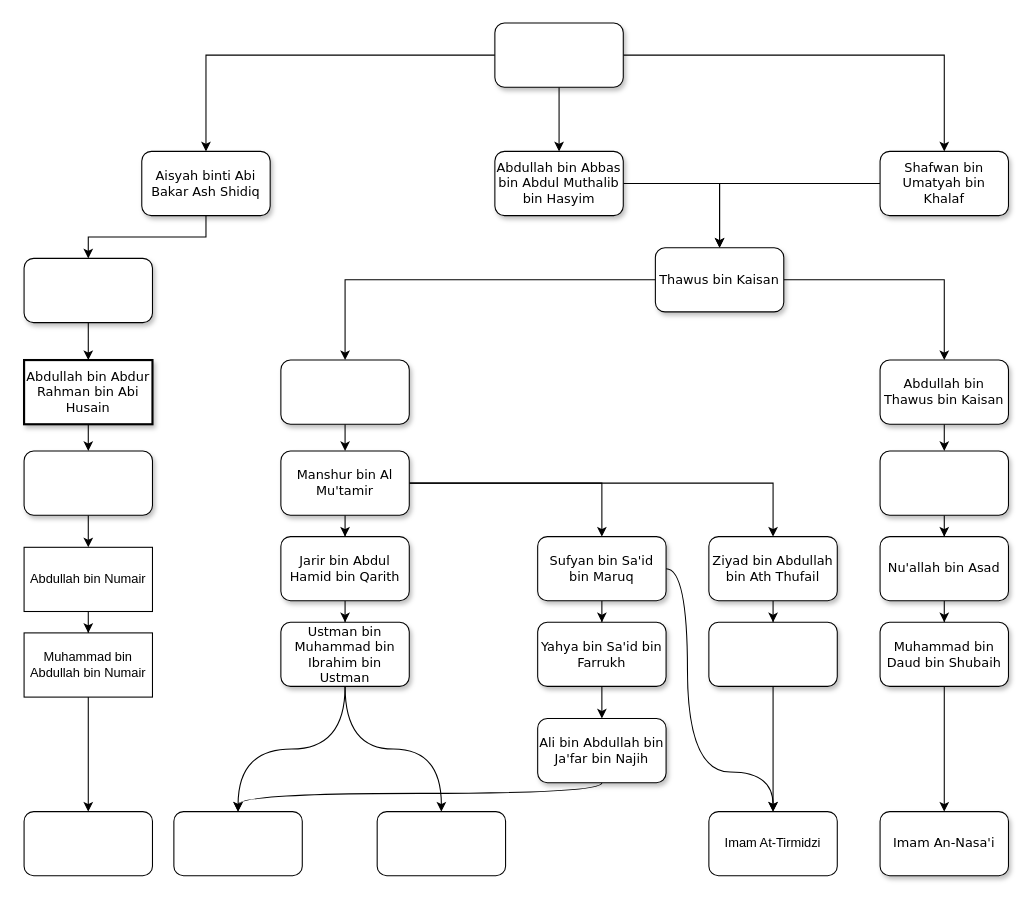
The diagram is 1034 pixels wide and 902 high, and some of its shapes have lost their labels. The centre of each missing label's shape, as x and y in pixels:
Abdullah bin Habib bin Abi Tsabit: the point at 89,484
Ahmad bin Abdah bin Musa: the point at 774,655
Atha bin Abi Rabbah Aslam: the point at 89,291
Imam Abu Daud: the point at 441,843
Imam Bukhari: the point at 237,843
Imam Muslim: the point at 87,843
Mujahid bin Jabbar: the point at 346,393
Rasulullah Saw.: the point at 560,56
Wuhaib bin khalid bin Ajlan: the point at 945,484
